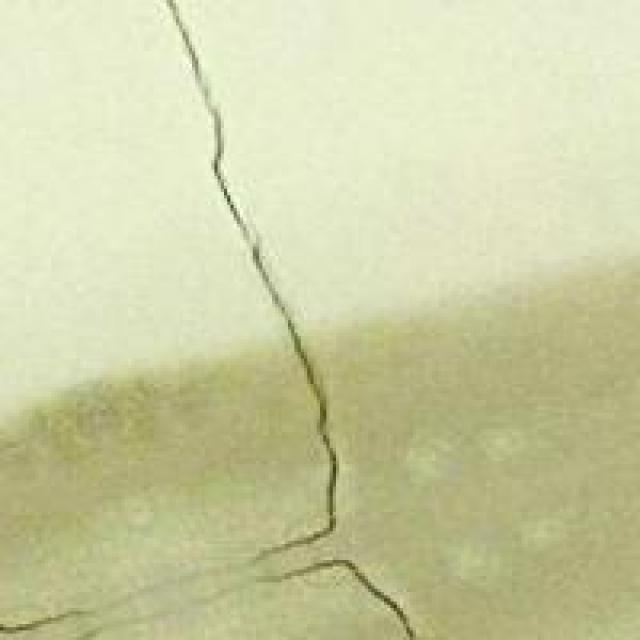crack: (154, 6, 464, 637)
